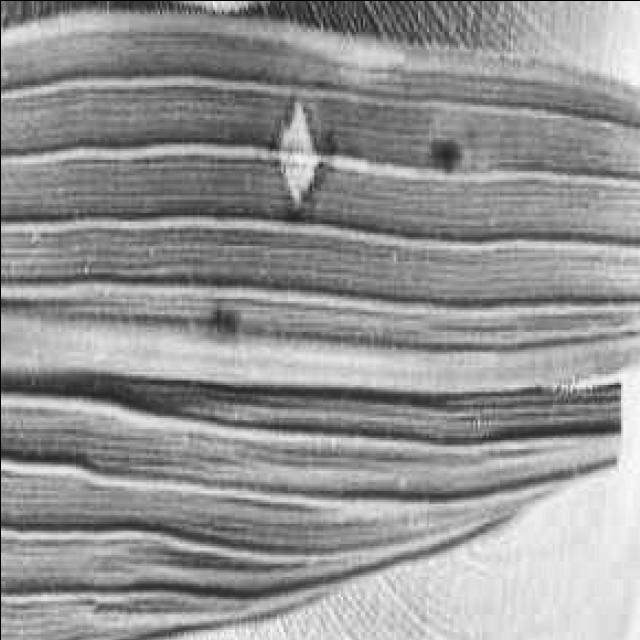Leaf_Blast: (199, 102, 481, 354)
